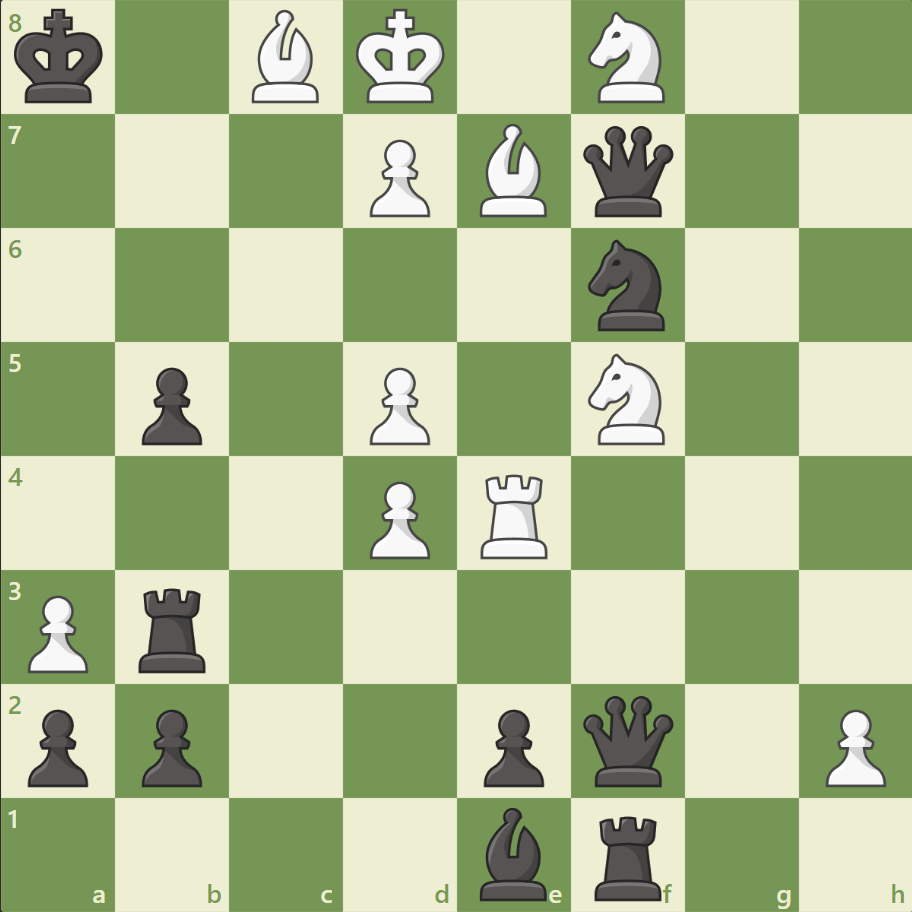B: (244, 6, 328, 109), (471, 120, 555, 222)
K: (351, 4, 451, 112)
N: (579, 7, 676, 110), (579, 348, 676, 450)
P: (20, 586, 95, 677), (361, 132, 435, 223), (361, 359, 435, 450), (361, 473, 435, 564), (815, 700, 889, 791)
R: (473, 466, 556, 563)
b: (471, 801, 555, 904)
k: (11, 4, 111, 112)
n: (579, 234, 676, 337)
p: (133, 359, 208, 450), (20, 700, 95, 791), (133, 700, 208, 791), (474, 700, 549, 791)
q: (578, 122, 677, 222), (578, 690, 677, 789)
r: (587, 806, 670, 904), (133, 579, 215, 676)
